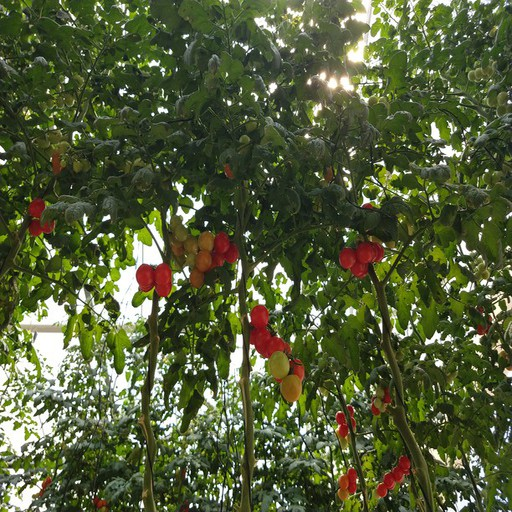green tomato bunch: (467, 59, 512, 120), (37, 127, 84, 174), (33, 86, 83, 108)
mixed tomato bunch: (165, 215, 240, 288), (249, 306, 306, 400), (370, 381, 395, 417)
red tomato bunch: (338, 241, 384, 277), (376, 455, 415, 497), (24, 198, 57, 237), (136, 261, 172, 296), (336, 404, 356, 440), (337, 468, 360, 499)
